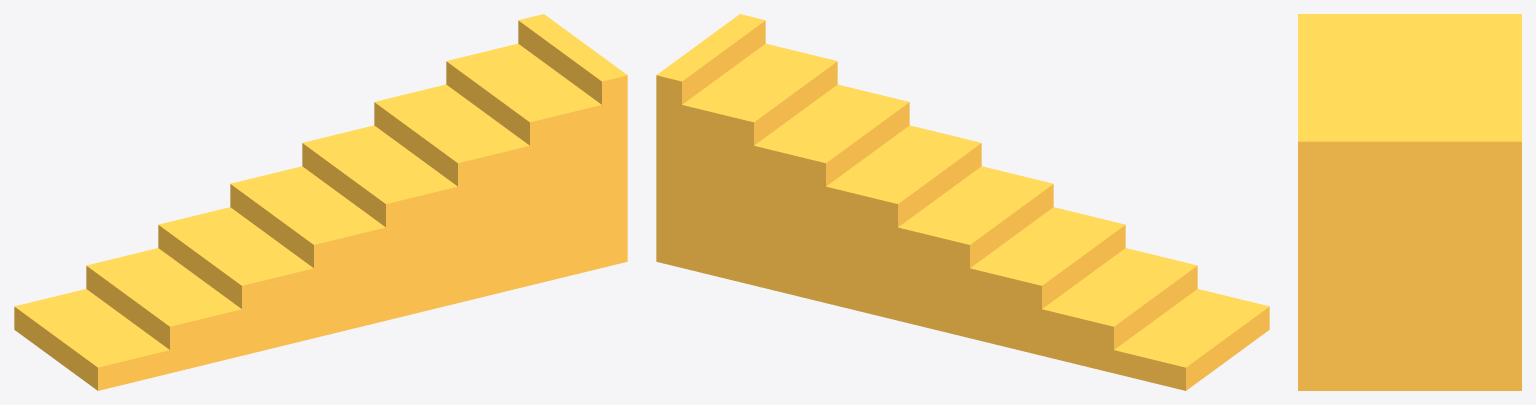
File: rock_kicking_heaven_stairs_stairs_collision.glb
3 views of the same model, side by side, from view 1: azimuth 30°, elevation 25°; view 2: azimuth 150°, elevation 25°; view 3: azimuth 270°, elevation 25° (orthographic). The views are drawn at different scales.
Visible parts, largest first — view 1: stairs-convcolonly; view 2: stairs-convcolonly; view 3: stairs-convcolonly.
Part boxes in pixels (box(x1,y1,x2,y2)): stairs-convcolonly: box(14, 14, 627, 390); stairs-convcolonly: box(656, 14, 1269, 390); stairs-convcolonly: box(1298, 14, 1521, 390).
Size of the model in its own units: 27.71 by 9.32 by 7.59.
